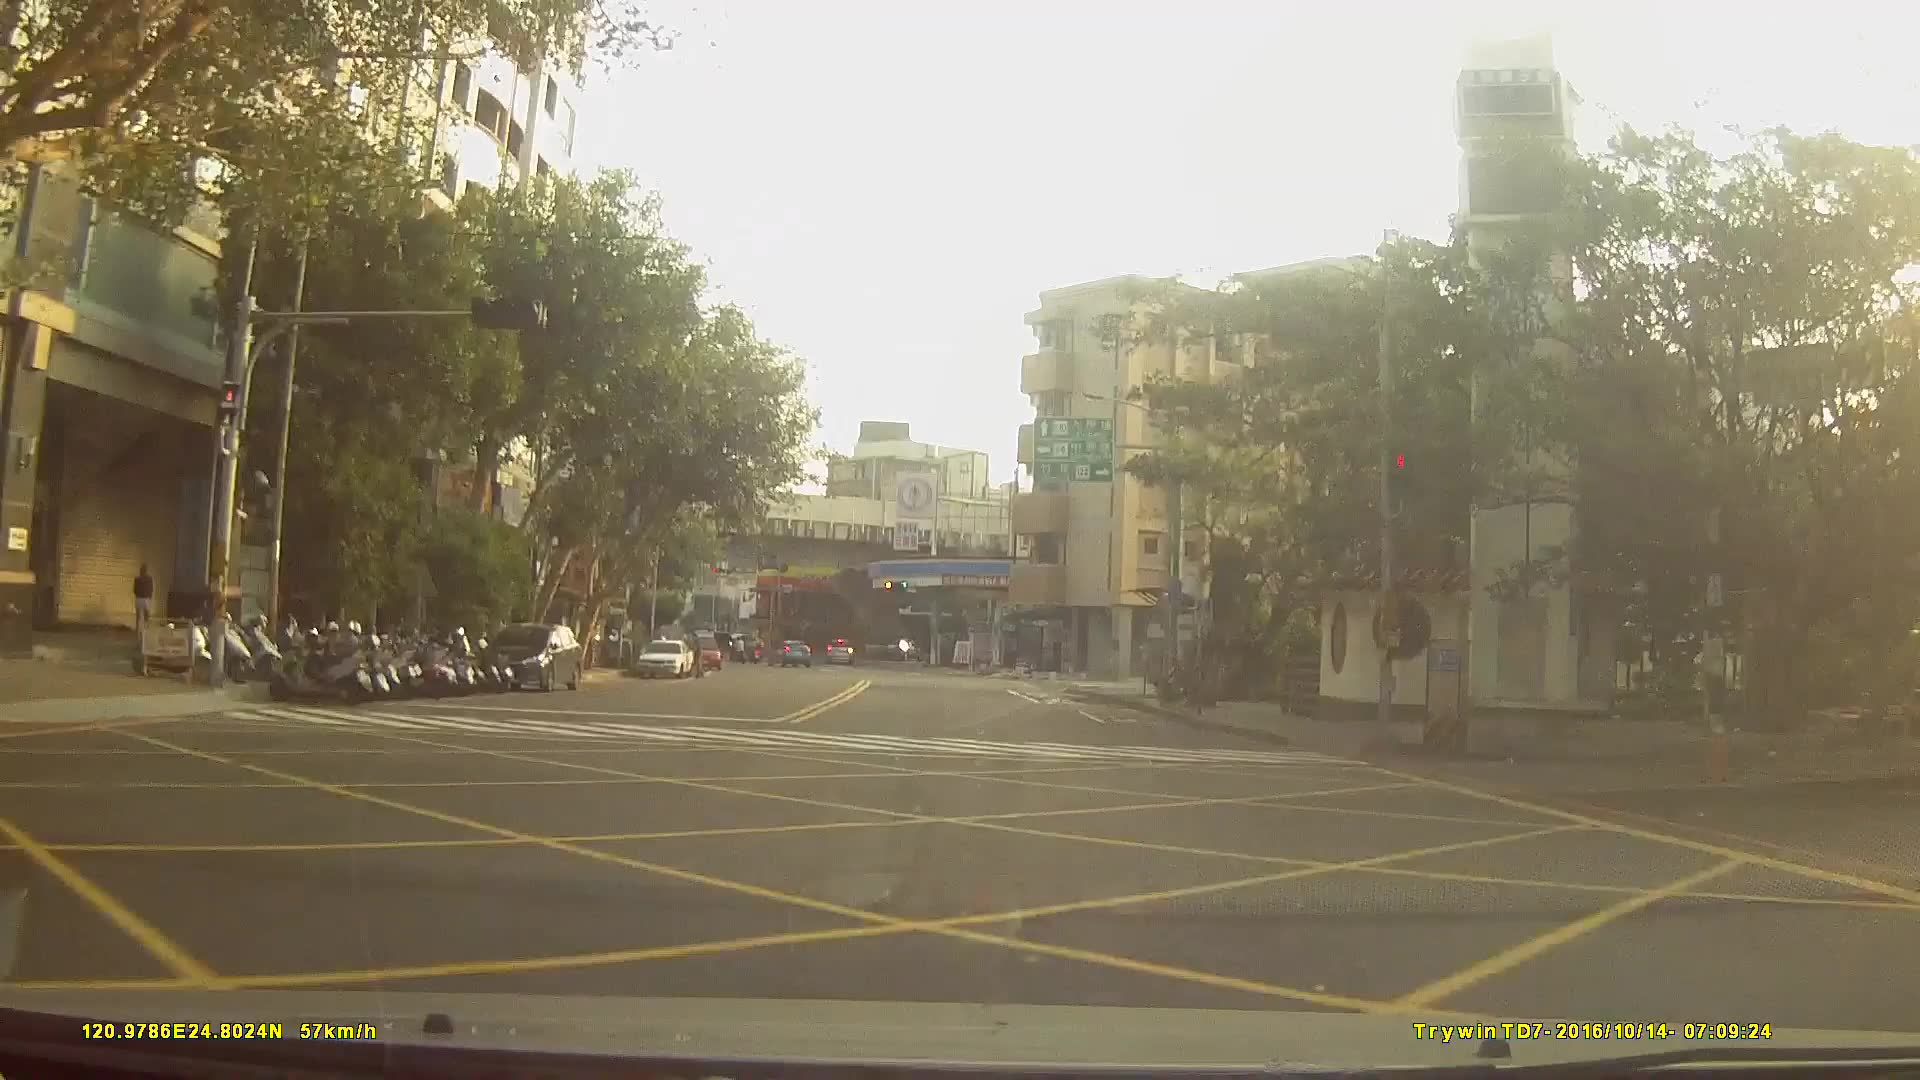pedestrian: (133, 565, 158, 640)
vehicle: (482, 620, 584, 692), (632, 638, 691, 680), (680, 635, 723, 673), (765, 639, 811, 669), (825, 637, 855, 665)
